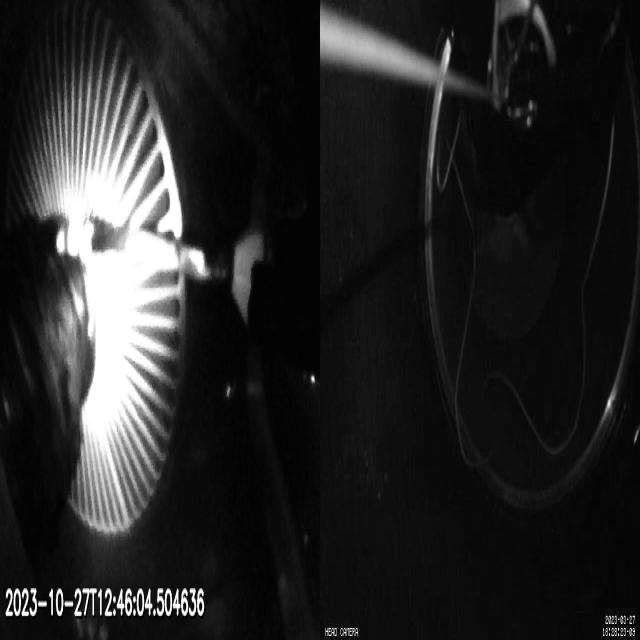head: (232, 230, 278, 322)
white-dots: (56, 215, 94, 263)
